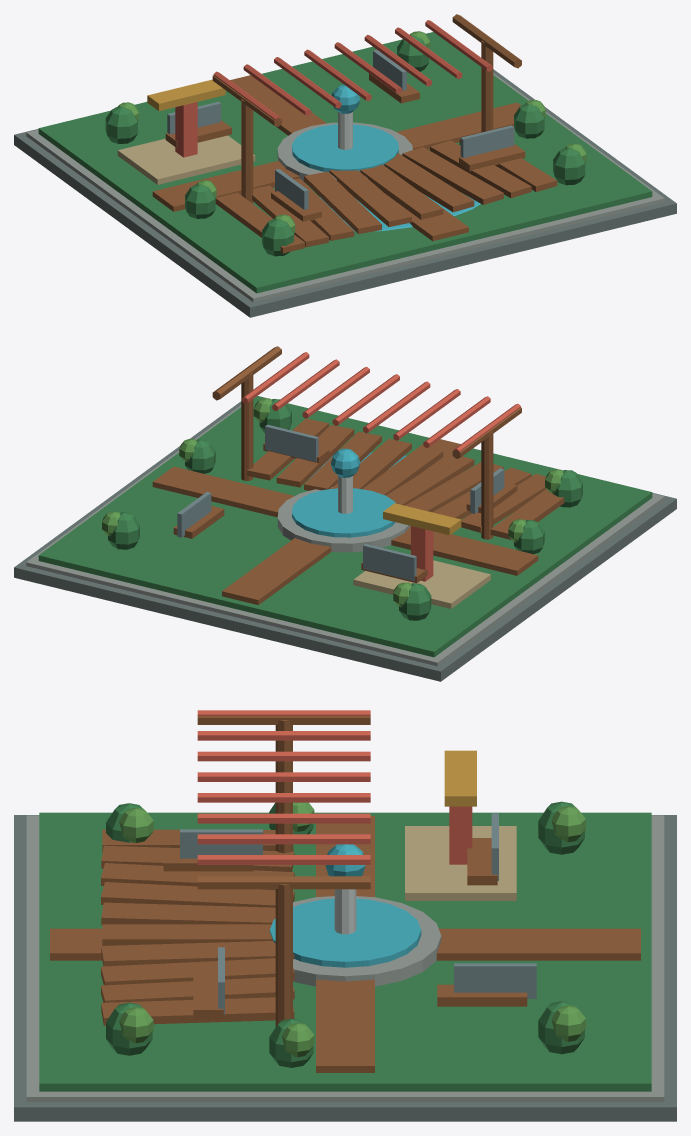
The model's file is park_lv3.glb.
3 renders of one model, top to bottom at view 1: azimuth 30°, elevation 25°; view 2: azimuth 150°, elevation 25°; view 3: azimuth 270°, elevation 25°, orthographic. The views are drawn at different scales.
Visible parts, largest first — view 1: rough, glossy, metallic; view 2: rough, glossy, metallic; view 3: rough, glossy, metallic.
Part boxes in pixels (x1=…): rough: x1=14, y1=14, x2=676, y2=317; glossy: x1=292, y1=84, x2=480, y2=231; metallic: x1=167, y1=50, x2=514, y2=209; rough: x1=14, y1=346, x2=676, y2=681; glossy: x1=292, y1=448, x2=406, y2=537; metallic: x1=177, y1=424, x2=504, y2=581; rough: x1=14, y1=710, x2=676, y2=1121; glossy: x1=269, y1=844, x2=421, y2=967; metallic: x1=180, y1=813, x2=536, y2=1014.
Size of the model in its own units: 9.6 by 2.81 by 9.2.
